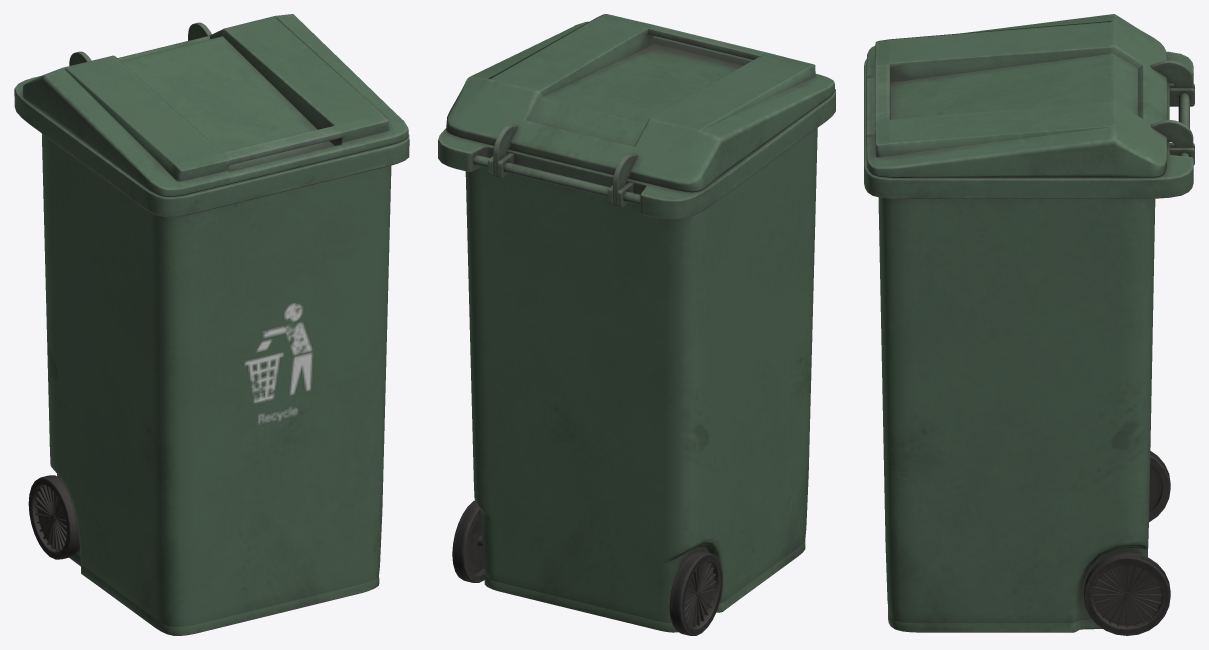
File: trashbin.glb
3 views of the same model, side by side, from view 1: azimuth 30°, elevation 25°; view 2: azimuth 150°, elevation 25°; view 3: azimuth 270°, elevation 25° (orthographic). The views are drawn at different scales.
Parts seen in each view (by area): view 1: Object029_1010_0; view 2: Object029_1010_0; view 3: Object029_1010_0.
Boxes of the visible parts, x1=… form: Object029_1010_0: x1=14, y1=14, x2=409, y2=635; Object029_1010_0: x1=438, y1=14, x2=835, y2=635; Object029_1010_0: x1=864, y1=14, x2=1194, y2=635.
Size of the model in its own units: 0.6592 by 1.2 by 0.7122.
Materials: 1 (1 with a texture image).
